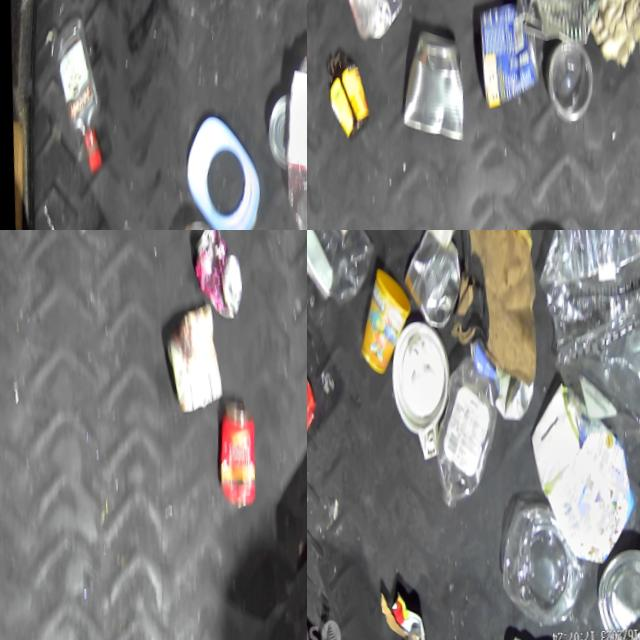can: (461, 0, 544, 121), (394, 29, 469, 157), (183, 230, 246, 333), (509, 0, 618, 58), (204, 404, 255, 523), (592, 570, 640, 640)
plastic_bottle: (532, 230, 640, 340), (423, 358, 494, 506), (269, 47, 307, 230), (307, 230, 377, 319)
